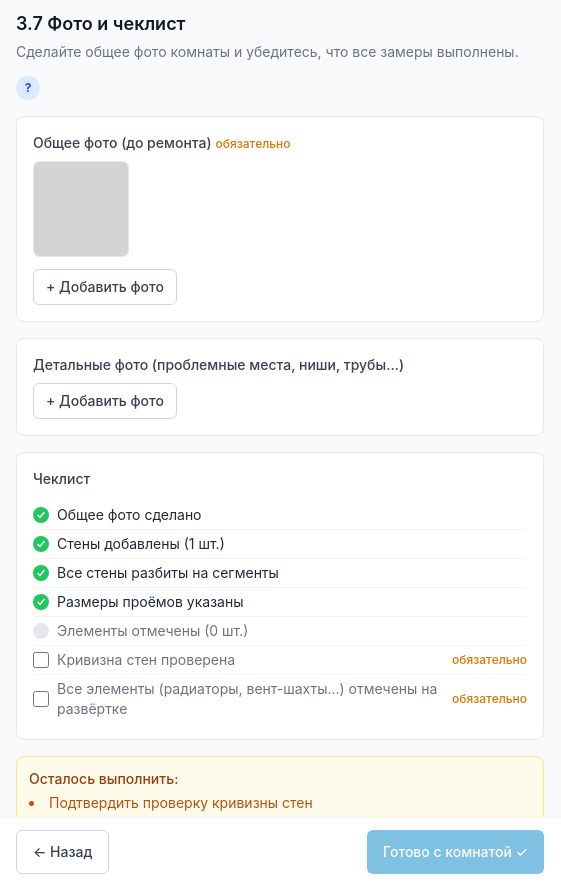
Test case: PhotoChecklistStep › enables "Готово с комнатой" when all required conditions met
This screenshot has width=561, height=886.
What coordinates should you click on to do the following:
click the checkbox next to "Кривизна стен проверена"
I would click on:
 (41, 660)
Its box is [33,652,49,668].
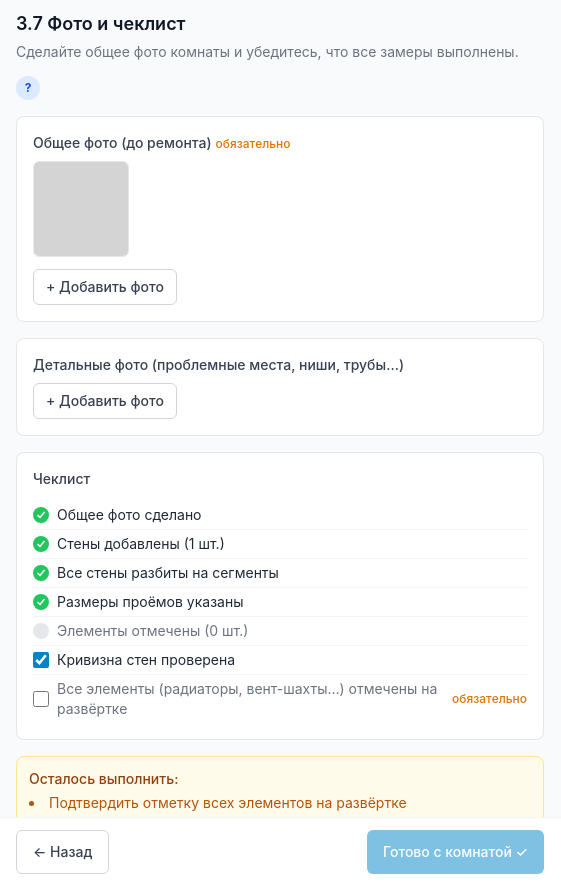
What coordinates should you click on to do the following:
click the 2nd checkbox
I would click on:
 (41, 699)
Its box is [33,691,49,707].
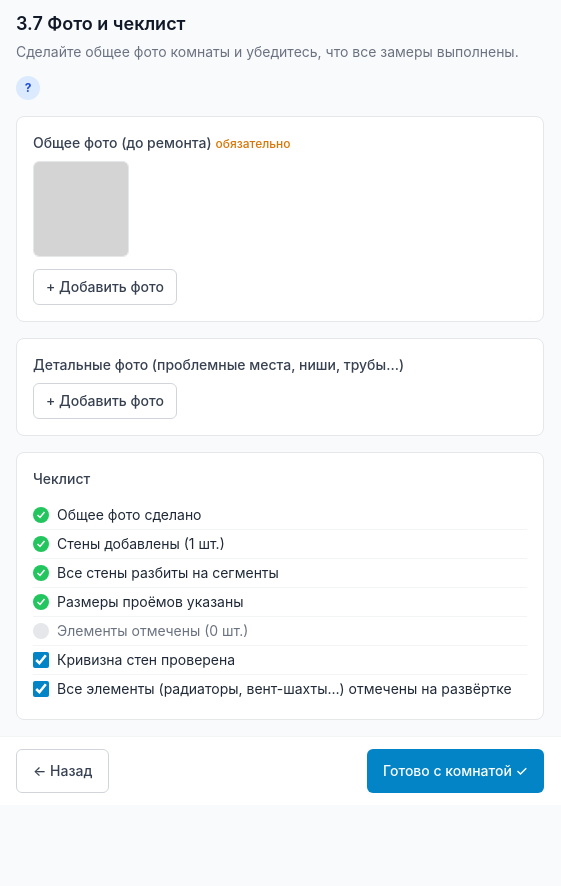
Now the button "Готово с комнатой ✓" is enabled, box [367,749,544,793]
